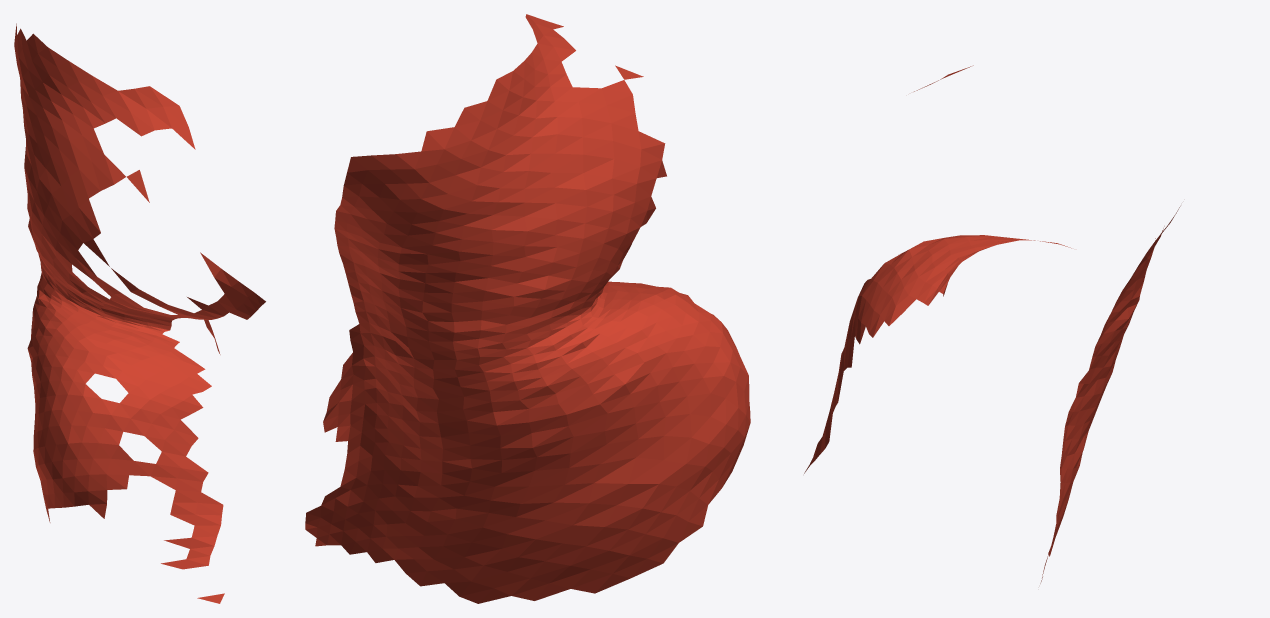
The model's file is rh_entorhinal.glb.
The picture shows the model from 3 angles, left to right: view 1: azimuth 30°, elevation 25°; view 2: azimuth 150°, elevation 25°; view 3: azimuth 270°, elevation 25°; orthographic projection. The views are drawn at different scales.
Visible parts, largest first — view 1: world; view 2: world; view 3: world.
Boxes of the visible parts, box(x1,y1,x2,y2) form: world: box(14, 23, 265, 603); world: box(305, 14, 750, 603); world: box(804, 65, 1180, 583).
Size of the model in its own units: 16.97 by 26.28 by 22.84.
